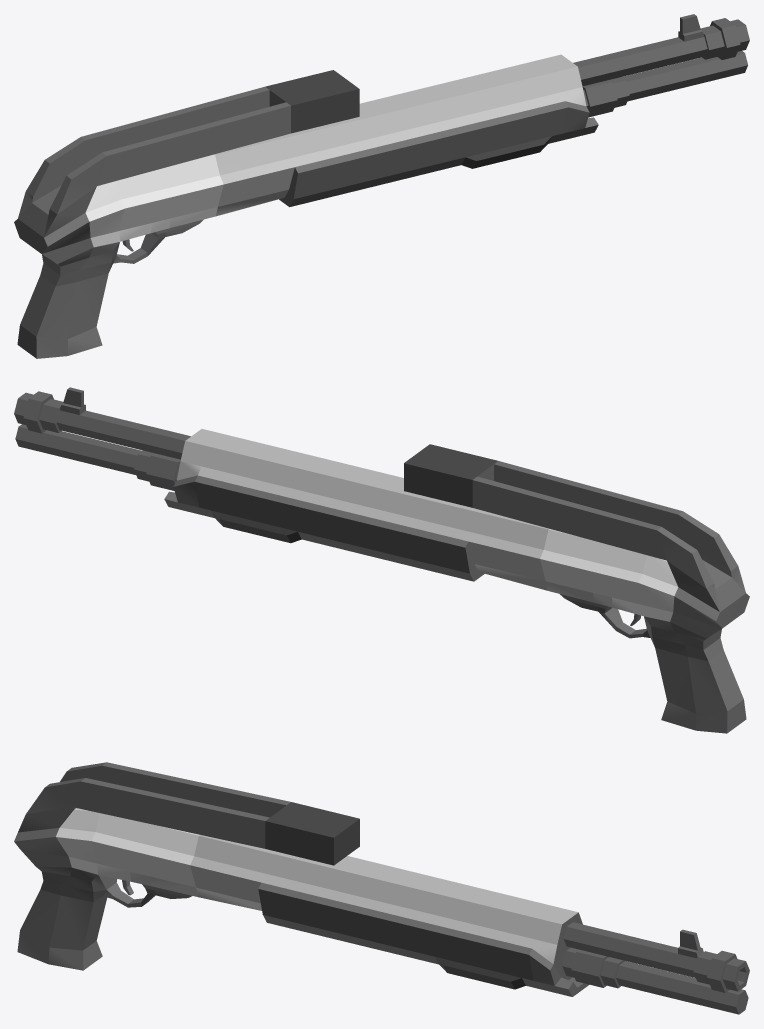
Rendered from ShotGun.FBX.
The picture shows the model from 3 angles, top to bottom: view 1: azimuth 30°, elevation 25°; view 2: azimuth 150°, elevation 25°; view 3: azimuth 330°, elevation 25°; orthographic projection.
Visible parts, largest first — view 1: ShotGun; view 2: ShotGun; view 3: ShotGun.
Boxes of the visible parts, x1,y1,x2,y2 form: ShotGun: (14,14,749,358); ShotGun: (14,387,749,733); ShotGun: (14,762,749,1014).
Bounding box in the file's own units: 261 × 69.66 × 25.49.
Materials: 1 (1 with a texture image).
